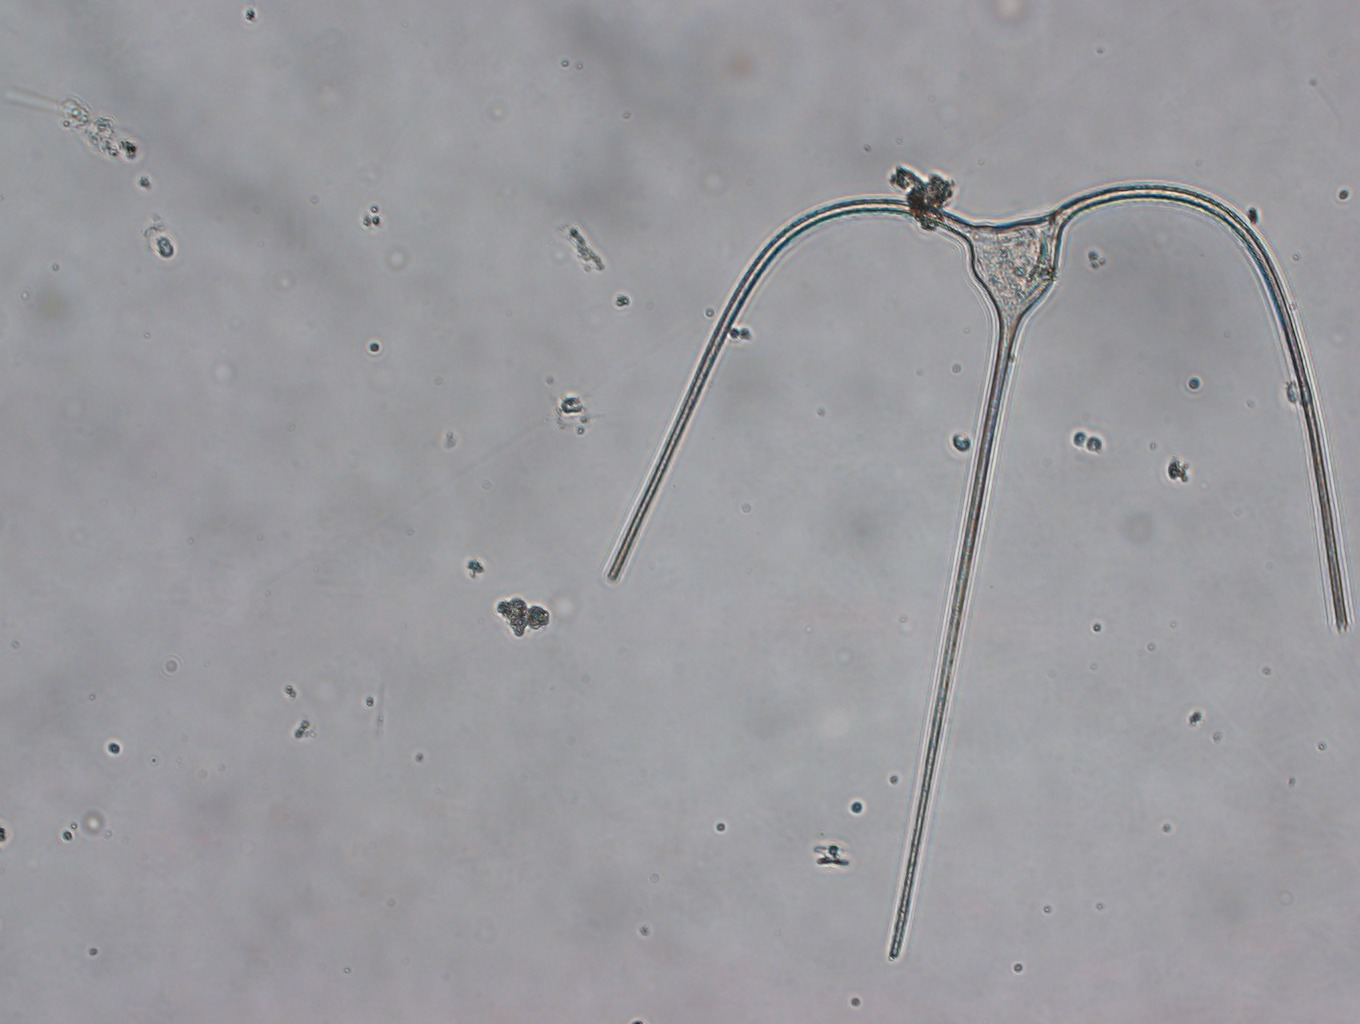ceratium trichoceros: (609, 185, 1347, 963)
